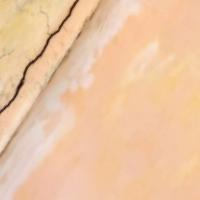crack: (1, 0, 87, 123)
